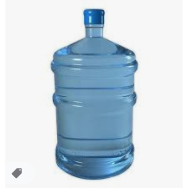Bottle: (53, 10, 137, 176)
